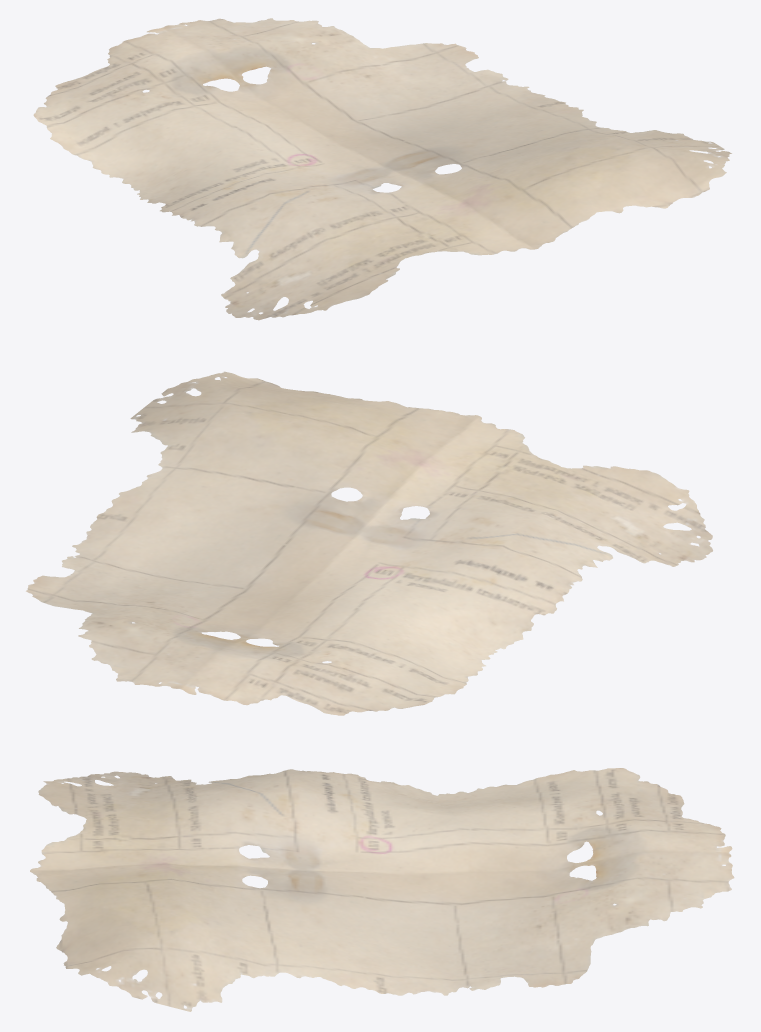
File: SM_Paper_018.fbx
The picture shows the model from 3 angles, top to bottom: view 1: azimuth 30°, elevation 25°; view 2: azimuth 150°, elevation 25°; view 3: azimuth 270°, elevation 25°; orthographic projection. The views are drawn at different scales.
Parts seen in each view (by area): view 1: SM_Paper_018; view 2: SM_Paper_018; view 3: SM_Paper_018.
Part boxes in pixels (bbox=[...]): SM_Paper_018: bbox=[33, 18, 731, 320]; SM_Paper_018: bbox=[26, 371, 712, 715]; SM_Paper_018: bbox=[30, 768, 734, 1011].
Size of the model in its own units: 38.15 by 42.26 by 3.81.
1 material, 1 textured.
